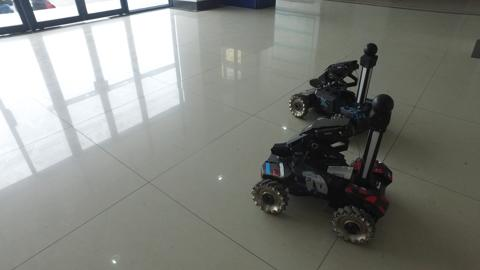chariot: (247, 89, 405, 246), (284, 37, 402, 139)
